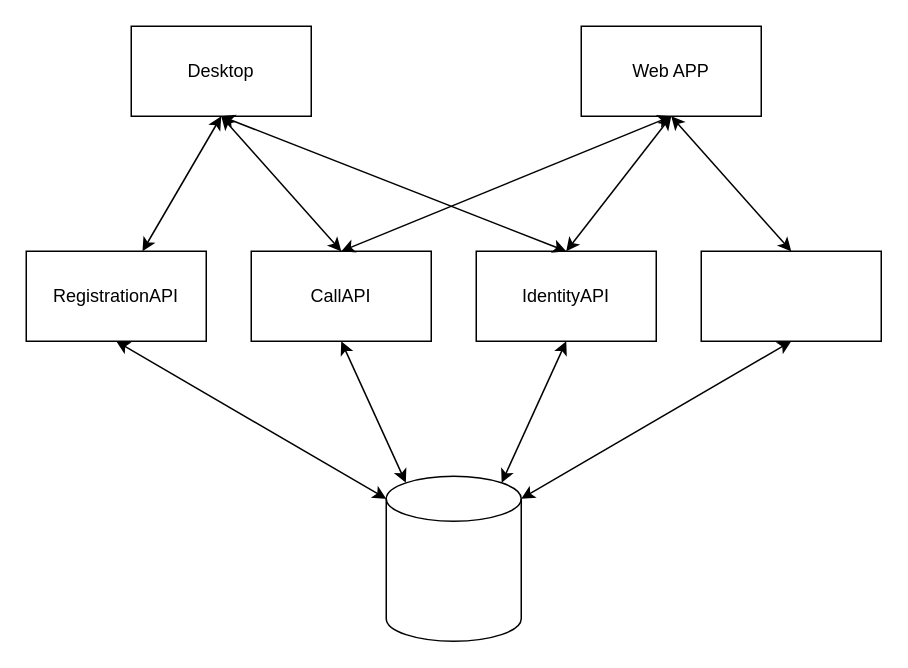
The diagram is 908 pixels wide and 668 high, and some of its shapes have lost their labels. Each missing label, with the box of its shape:
AmbulanceDB: (385, 475, 521, 641)
StatisticAPI: (700, 250, 881, 341)
